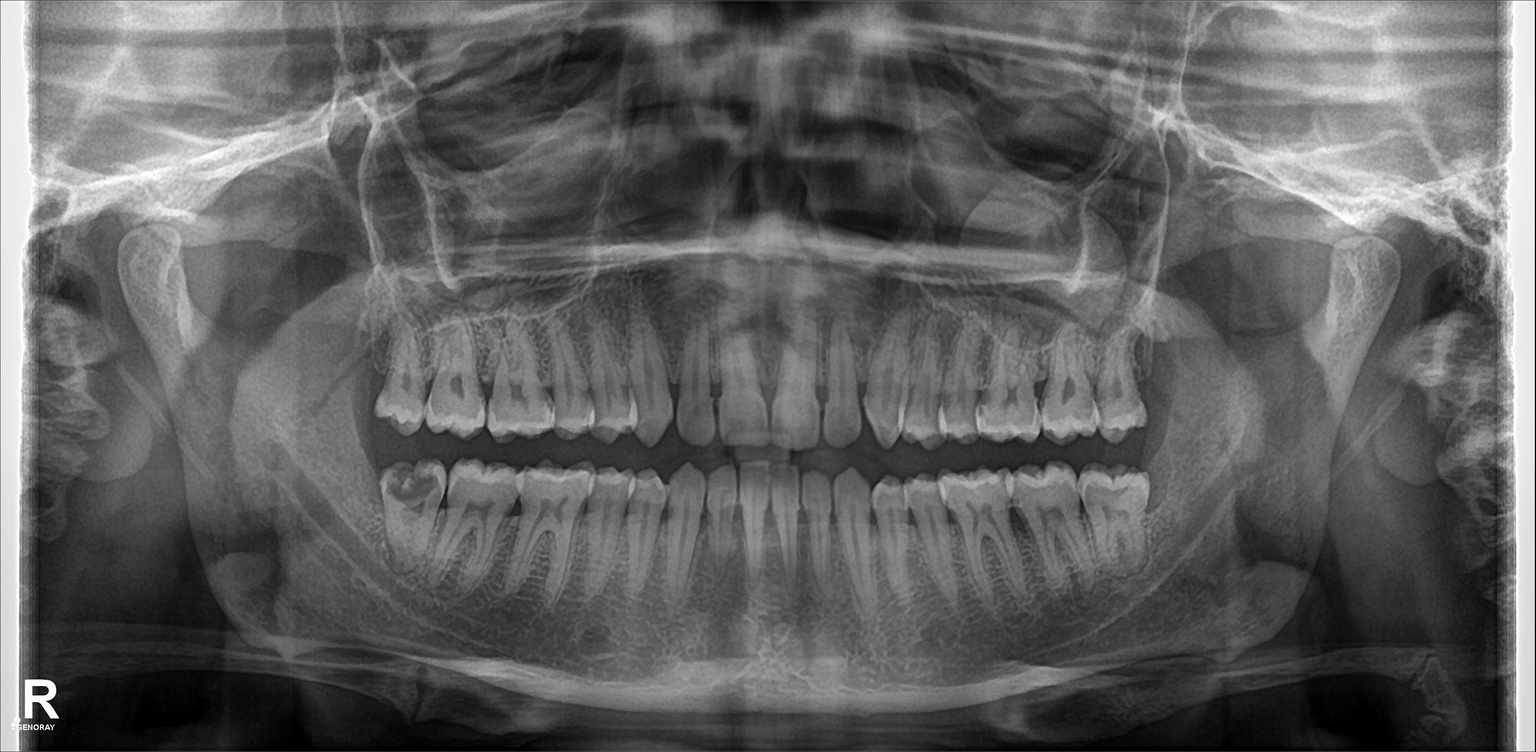Dental Caries: (380, 462, 439, 506)
Impacted Third Molar: (372, 456, 448, 566)
